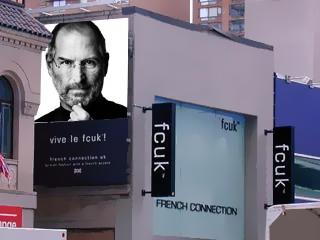Steven_Jobs: (37, 14, 130, 120)
